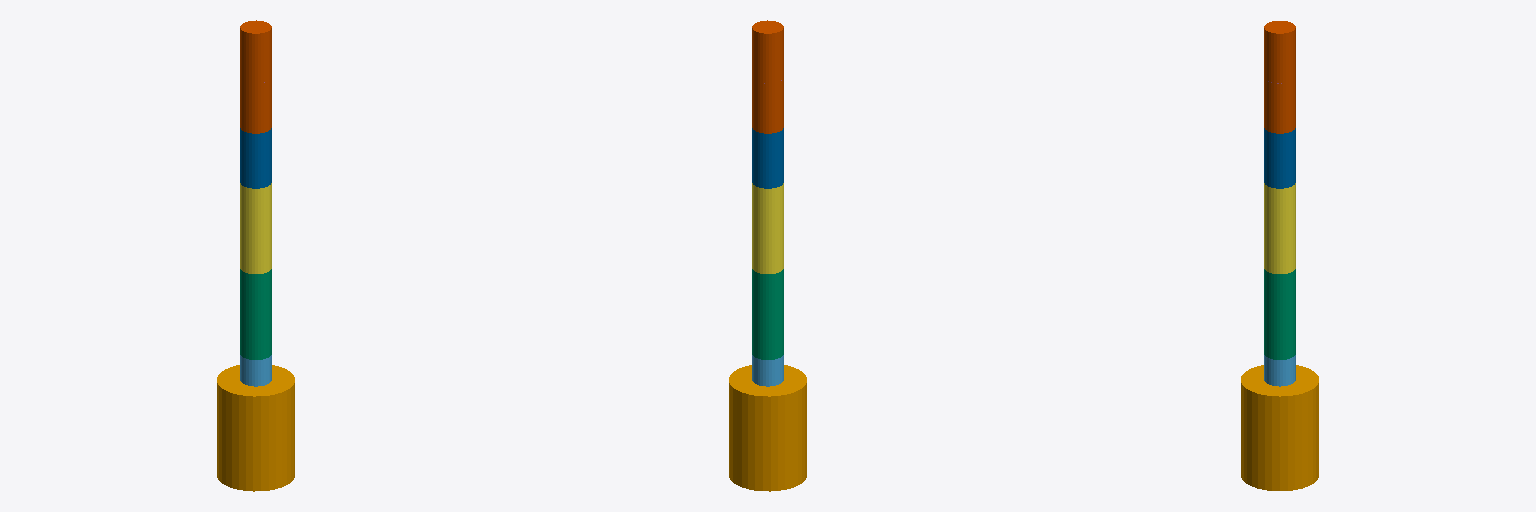
robot.urdf — robot_arm:
<robot name="robot_arm">
  <link name="base_link">
    <visual>
      <origin xyz="0 0 6.65" rpy="0 0 0"/>
      <geometry>
        <cylinder length="13.3" radius="5.0"/>
      </geometry>
    </visual>
  </link>

  <link name="rotator">
    <visual>
      <origin xyz="0 0 1.85" rpy="0 0 0"/>
      <geometry>
        <cylinder length="3.7" radius="2.0"/>
      </geometry>
    </visual>
  </link>

  <joint name="base_joint" type="revolute">
    <parent link="base_link"/>
    <child link="rotator"/>
    <origin xyz="0 0 13.3" rpy="0 0 0" />
    <axis xyz="0 0 1"/>
  </joint>

  <link name="upper_arm">
    <visual>
      <origin xyz="0 0 6.0" rpy="0 0 0" />
      <geometry>
        <cylinder length="12.0" radius="2.0"/>
      </geometry>
    </visual>
  </link>

  <joint name="shoulder_joint" type="revolute">
    <parent link="rotator"/>
    <child link="upper_arm"/>
    <origin xyz="0 0 3.7" rpy="0 0 0" />
    <axis xyz="0 1 0"/>
    <limit lower="-1.57" upper="1.57" />
  </joint>

  <link name="forearm">
    <visual>
      <origin xyz="0 0 6.0" rpy="0 0 0" />
      <geometry>
        <cylinder length="12.0" radius="2.0"/>
      </geometry>
    </visual>
  </link>

  <joint name="elbow_joint" type="revolute">
    <parent link="upper_arm"/>
    <child link="forearm"/>
    <origin xyz="0 0 12.0" rpy="0 0 0" />
    <axis xyz="0 1 0"/>
    <limit lower="-1.57" upper="1.57" />
  </joint>

  <link name="hand">
    <visual>
      <origin xyz="0 0 3.85" rpy="0 0 0" />
      <geometry>
        <cylinder length="7.7" radius="2.0"/>
      </geometry>
    </visual>
  </link>

  <joint name="wrist_joint" type="revolute">
    <parent link="forearm"/>
    <child link="hand"/>
    <origin xyz="0 0 12.0" rpy="0 0 0" />
    <axis xyz="0 1 0"/>
    <limit lower="-1.57" upper="1.57" />
  </joint>

  <link name="fingers">
    <visual>
      <origin xyz="0 0 7.0" rpy="0 0 0" />
      <geometry>
        <cylinder length="14.0" radius="2.0"/>
      </geometry>
    </visual>
  </link>

  <joint name="twist_joint" type="revolute">
    <parent link="hand"/>
    <child link="fingers"/>
    <origin xyz="0 0 7.7" rpy="0 0 0" />
    <axis xyz="0 0 1"/>
    <limit lower="-0.01" upper="0.01" />
   </joint>

  <link name="fingertips">
    <visual>
      <origin xyz="0 0 0.025" rpy="0 0 0" />
      <geometry>
        <cylinder length="0.05" radius="2.0"/>
      </geometry>
    </visual>
  </link>

  <joint name="last_joint" type="revolute">
    <parent link="fingers"/>
    <child link="fingertips"/>
    <origin xyz="0 0 7.0" rpy="0 0 0" />
    <axis xyz="0 0 1"/>
    <limit lower="-0.01" upper="0.01" />
   </joint>

</robot>

--- Facts derived from the render (not from the file) ---
3 views of the same robot in one strip: view 1: azimuth 30°, elevation 25°; view 2: azimuth 150°, elevation 25°; view 3: azimuth 270°, elevation 25° (orthographic).
Model robot_arm with 7 links and 6 joints (6 revolute), rooted at base_link, posed every joint at zero.
Visible links, largest first — view 1: base_link, fingers, upper_arm, forearm, hand, rotator; view 2: base_link, fingers, upper_arm, forearm, hand, rotator; view 3: base_link, fingers, upper_arm, forearm, hand, rotator.
Boxes of the visible links, x1=… form: base_link: x1=217, y1=365, x2=294, y2=491; fingers: x1=240, y1=20, x2=271, y2=133; upper_arm: x1=240, y1=269, x2=271, y2=359; forearm: x1=240, y1=183, x2=271, y2=273; hand: x1=240, y1=128, x2=271, y2=188; rotator: x1=240, y1=355, x2=271, y2=386; base_link: x1=729, y1=365, x2=806, y2=491; fingers: x1=752, y1=20, x2=783, y2=133; upper_arm: x1=752, y1=269, x2=783, y2=359; forearm: x1=752, y1=183, x2=783, y2=273; hand: x1=752, y1=128, x2=783, y2=188; rotator: x1=752, y1=355, x2=783, y2=386; base_link: x1=1241, y1=365, x2=1318, y2=490; fingers: x1=1264, y1=21, x2=1295, y2=133; upper_arm: x1=1264, y1=269, x2=1295, y2=359; forearm: x1=1264, y1=183, x2=1295, y2=273; hand: x1=1264, y1=128, x2=1295, y2=188; rotator: x1=1264, y1=355, x2=1295, y2=386.
Bounding box of the posed robot: 10 × 10 × 62.7 m (x, y, z).
Geometry: primitives only (box / cylinder / sphere), no mesh files.